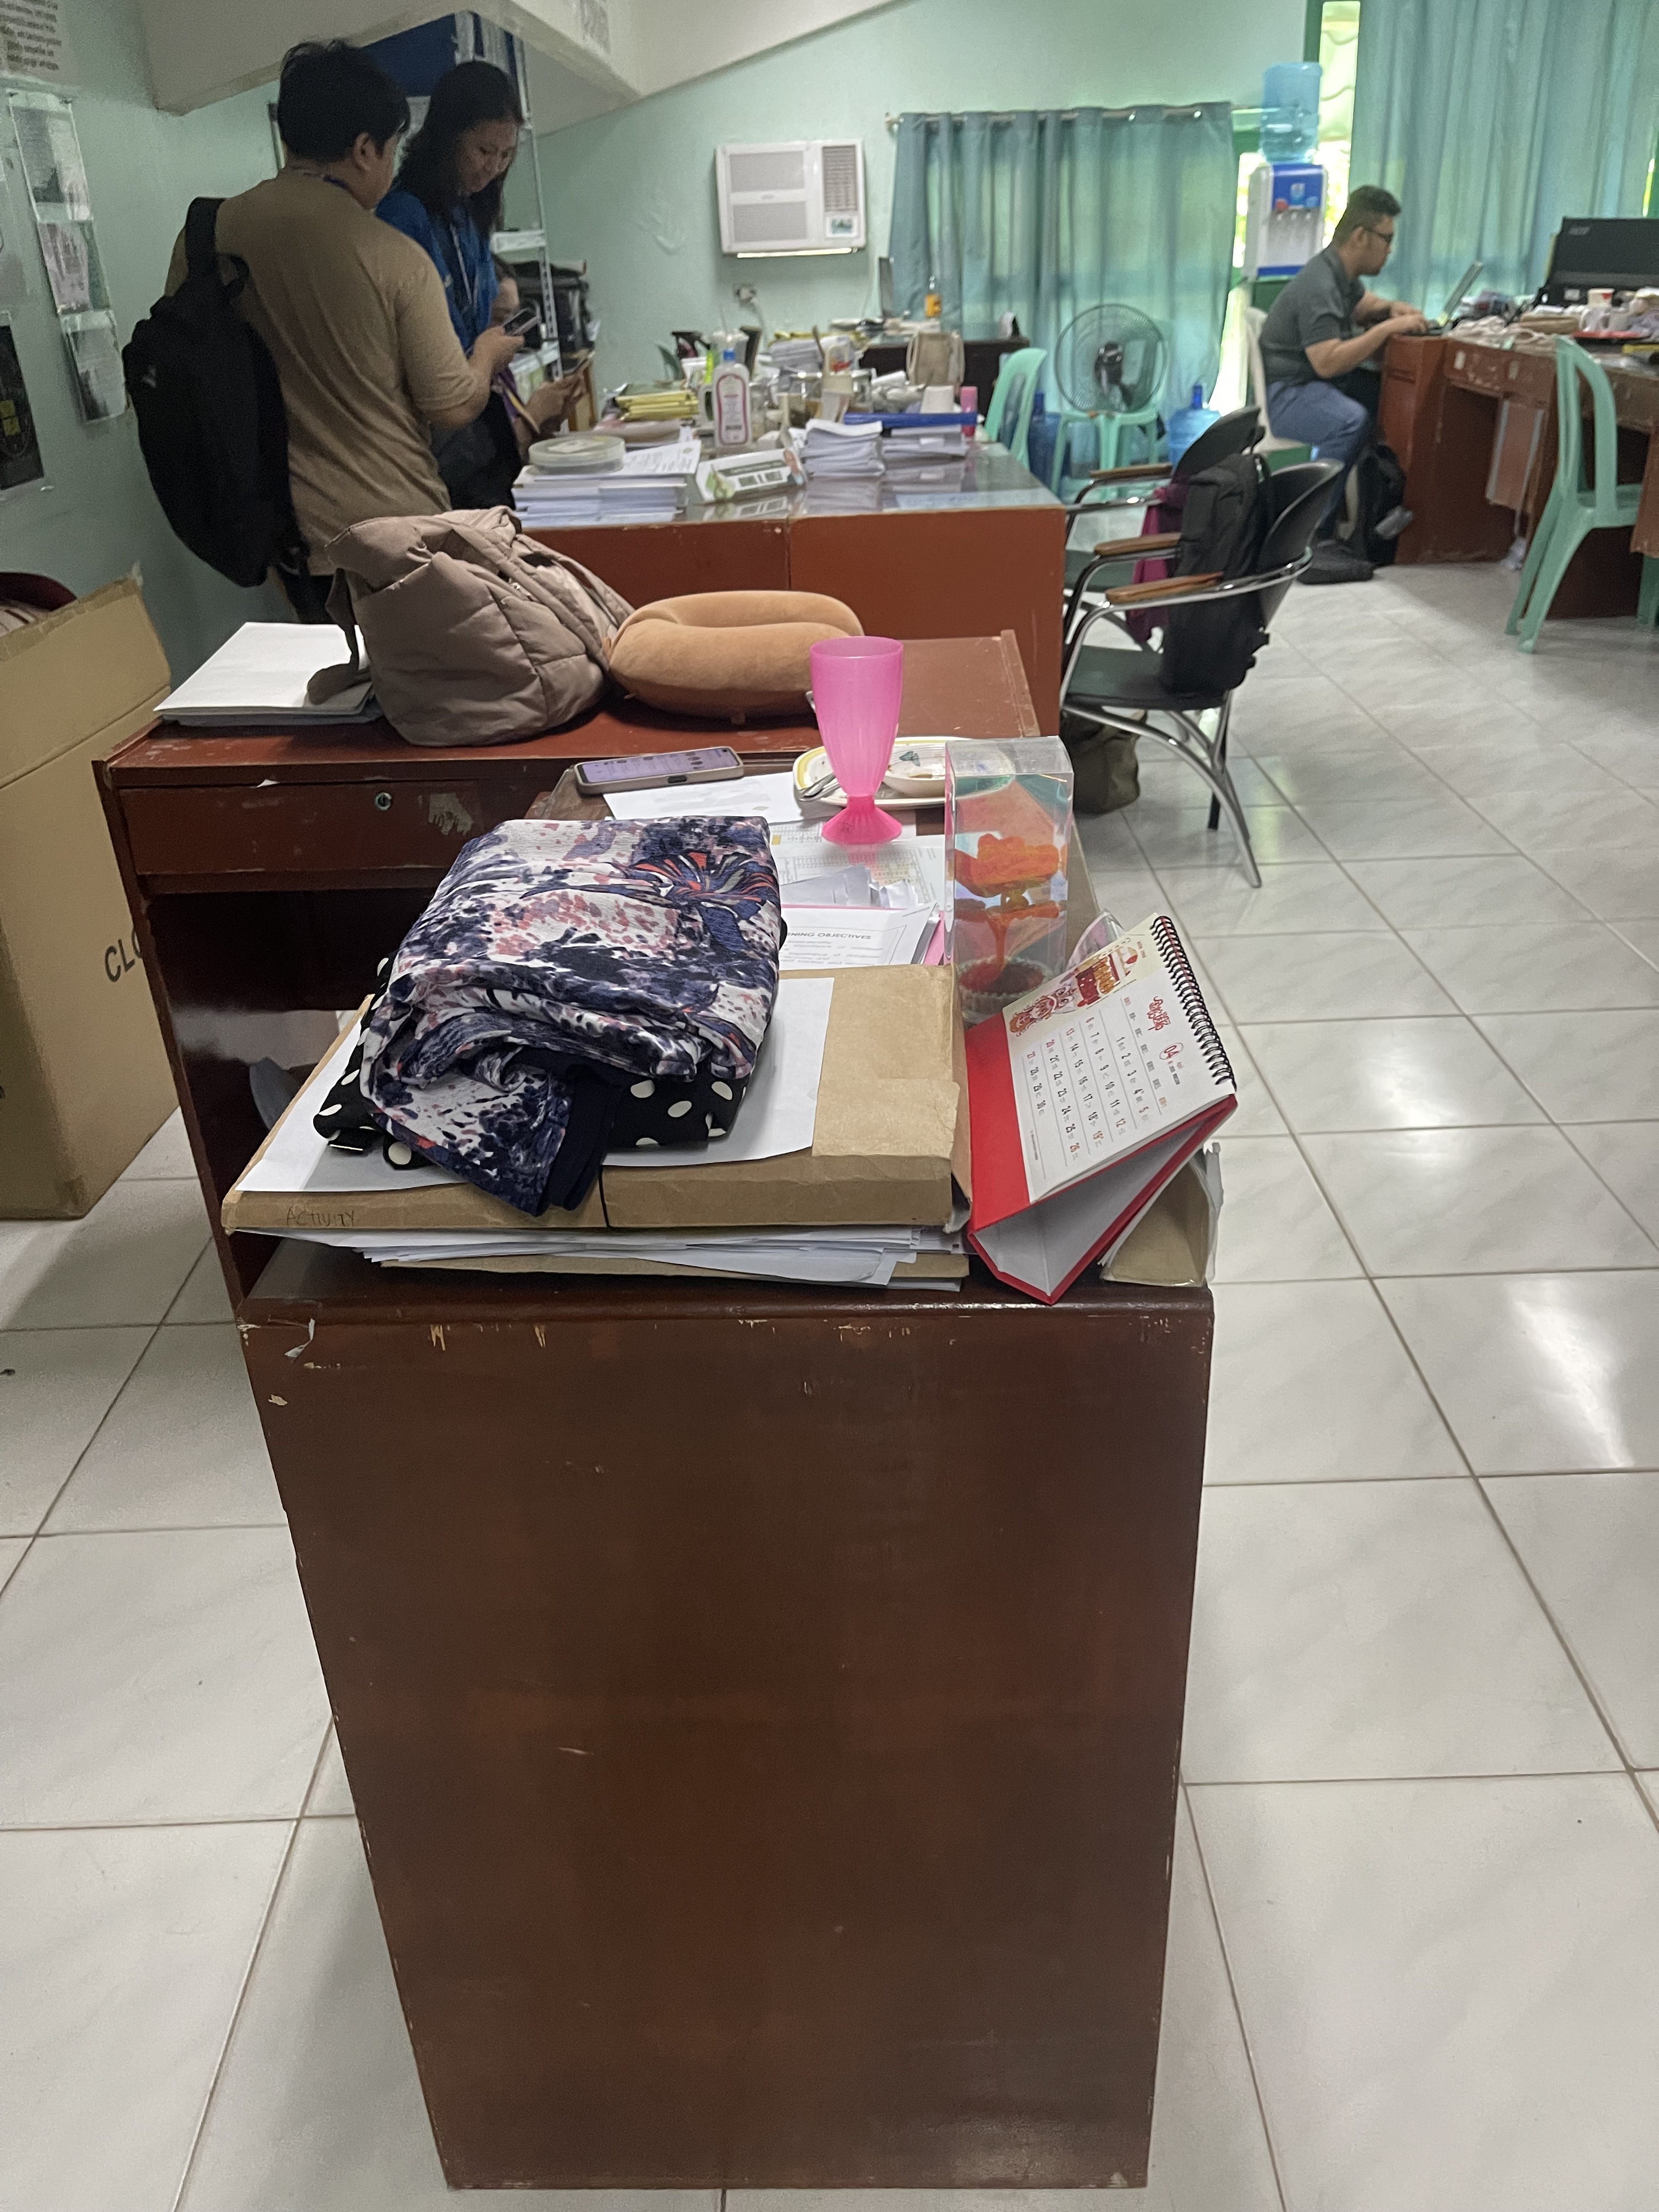table2: (87, 582, 1202, 2212)
